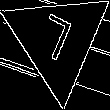L_SW: (36, 10, 80, 70)
